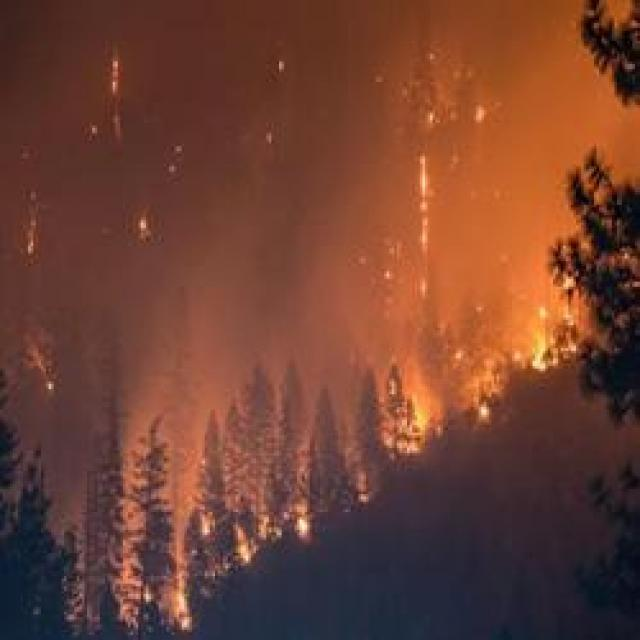fire: (519, 306, 564, 381)
